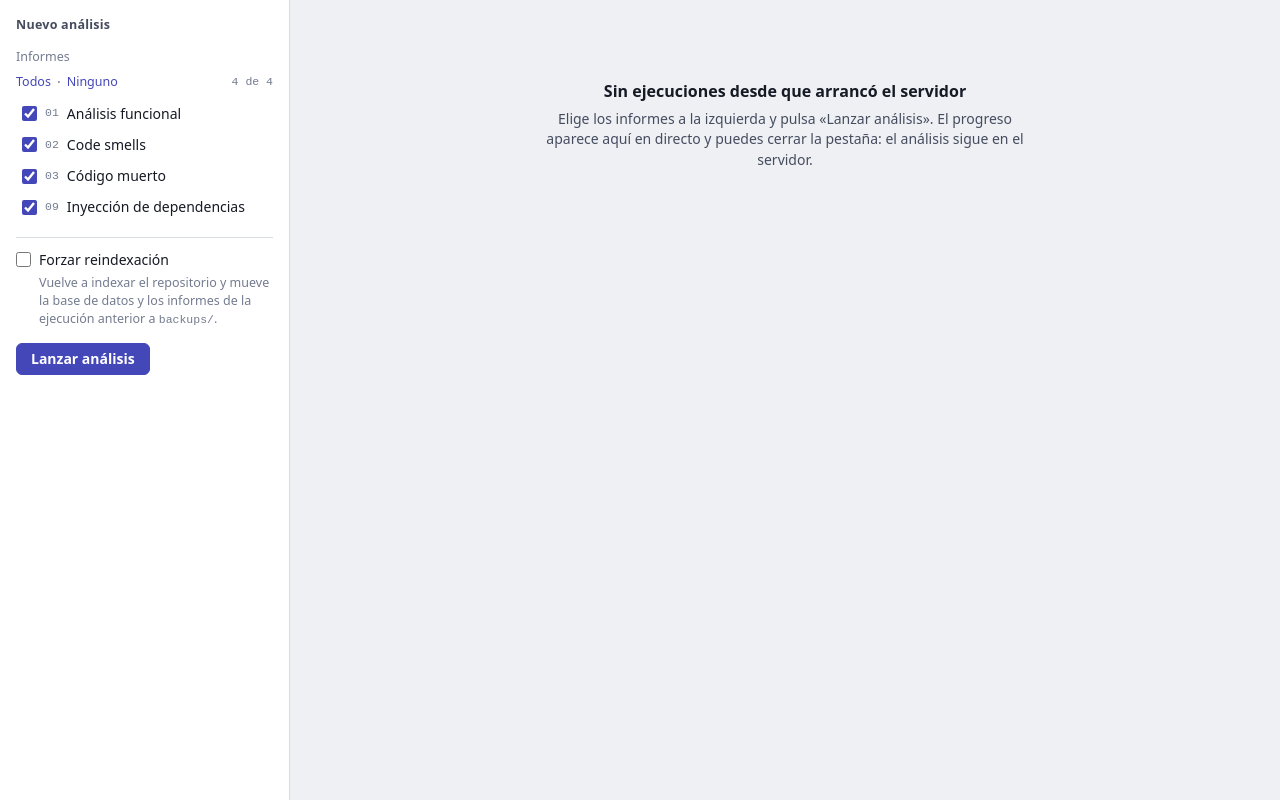
it: AnalysisLauncher › sin informes marcados no deja lanzar
The width and height of the screenshot is (1280, 800).
Step 1. Click the button "Ninguno" → (92, 82), box [67,73,118,91]
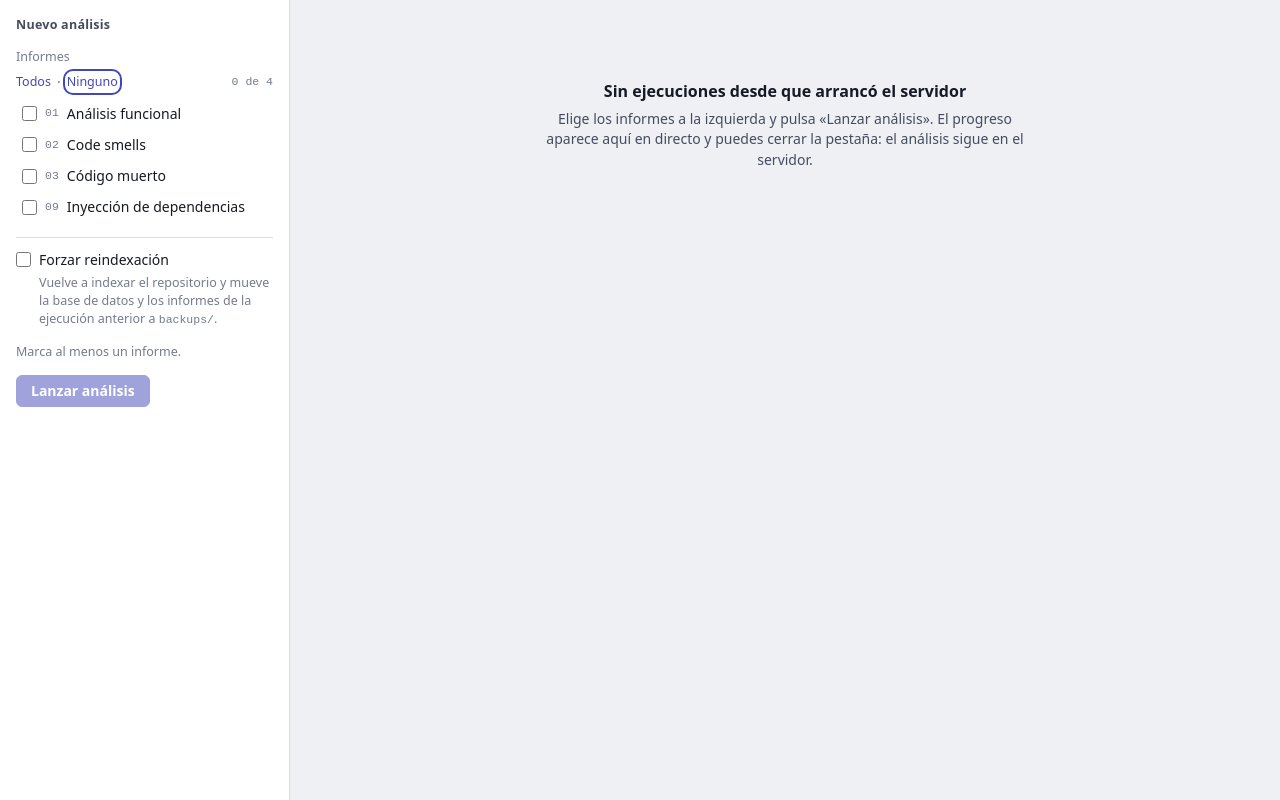
Check: the button "Lanzar análisis" is disabled, box [16,375,150,407]
Check: the text "Marca al menos un informe." is shown, box [16,343,181,360]
